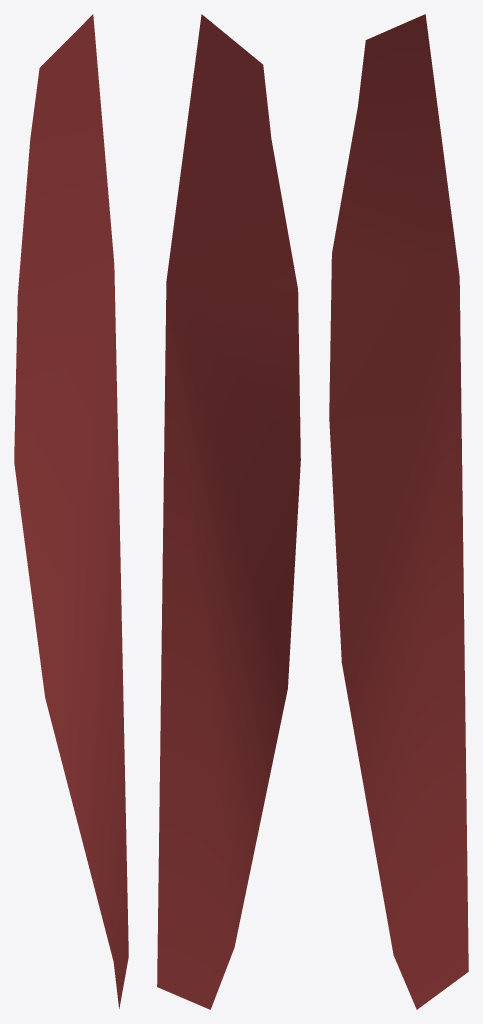
Rendered from fibularis-tertius-muscle-or.glb.
3 renders of one model, left to right at view 1: azimuth 30°, elevation 25°; view 2: azimuth 150°, elevation 25°; view 3: azimuth 330°, elevation 25°, orthographic. The views are drawn at different scales.
Parts seen in each view (by area): view 1: Fibularis tertius muscle.or; view 2: Fibularis tertius muscle.or; view 3: Fibularis tertius muscle.or.
Boxes of the visible parts, left/top/right/bottom form: Fibularis tertius muscle.or: left=14, top=14, right=128, bottom=1008; Fibularis tertius muscle.or: left=157, top=14, right=300, bottom=1009; Fibularis tertius muscle.or: left=329, top=14, right=468, bottom=1009.
Bounding box in the file's own units: 0.00457 × 0.0338 × 0.00204.
